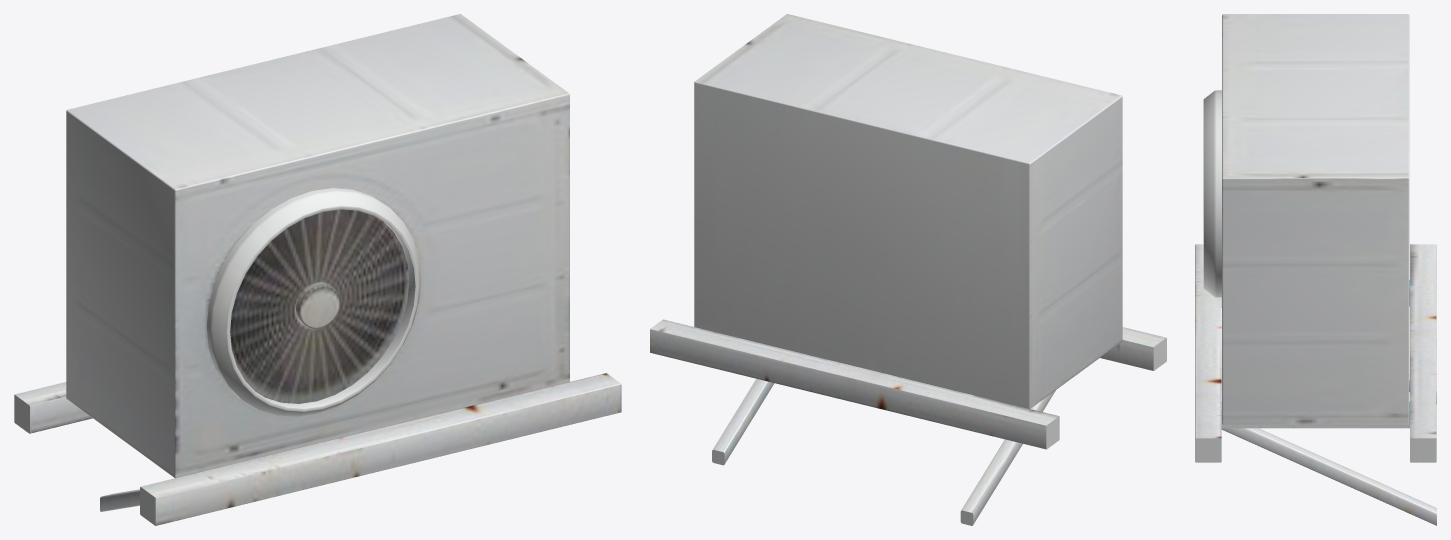
The picture shows the model from 3 angles, left to right: view 1: azimuth 30°, elevation 25°; view 2: azimuth 150°, elevation 25°; view 3: azimuth 270°, elevation 25°; orthographic projection. The views are drawn at different scales.
Visible parts, largest first — view 1: Aircon 1_Aircon 1_0; view 2: Aircon 1_Aircon 1_0; view 3: Aircon 1_Aircon 1_0.
Boxes of the visible parts, x1=… form: Aircon 1_Aircon 1_0: x1=14, y1=14, x2=621, y2=525; Aircon 1_Aircon 1_0: x1=650, y1=14, x2=1166, y2=525; Aircon 1_Aircon 1_0: x1=1195, y1=14, x2=1436, y2=525.
Bounding box in the file's own units: 13.65 × 11.96 × 7.2.
1 material, 1 textured.
